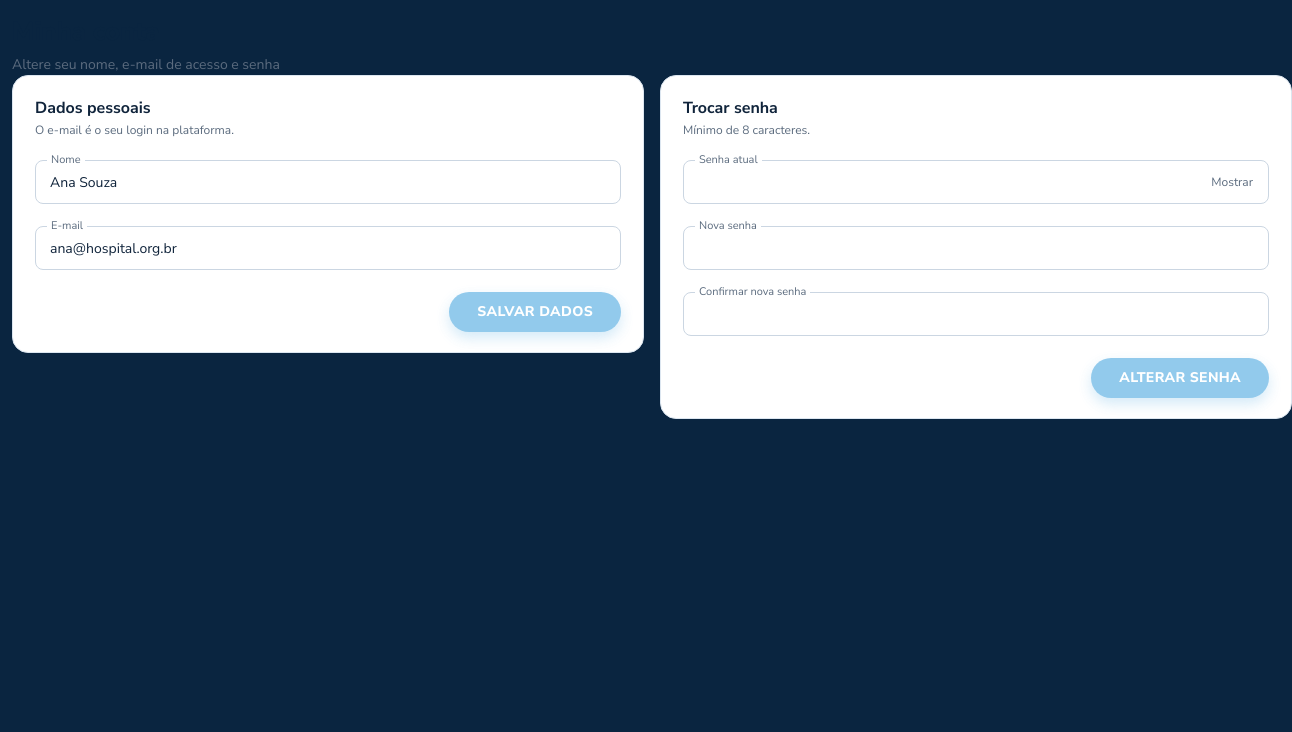
Test case: Minha conta: dados pessoais › trocar o e-mail exige a senha atual
This screenshot has width=1292, height=732.
Replace the text in the 2nd field with "Nova@Hospital.org.br" at (328, 248), box left=35, top=226, right=621, bottom=270
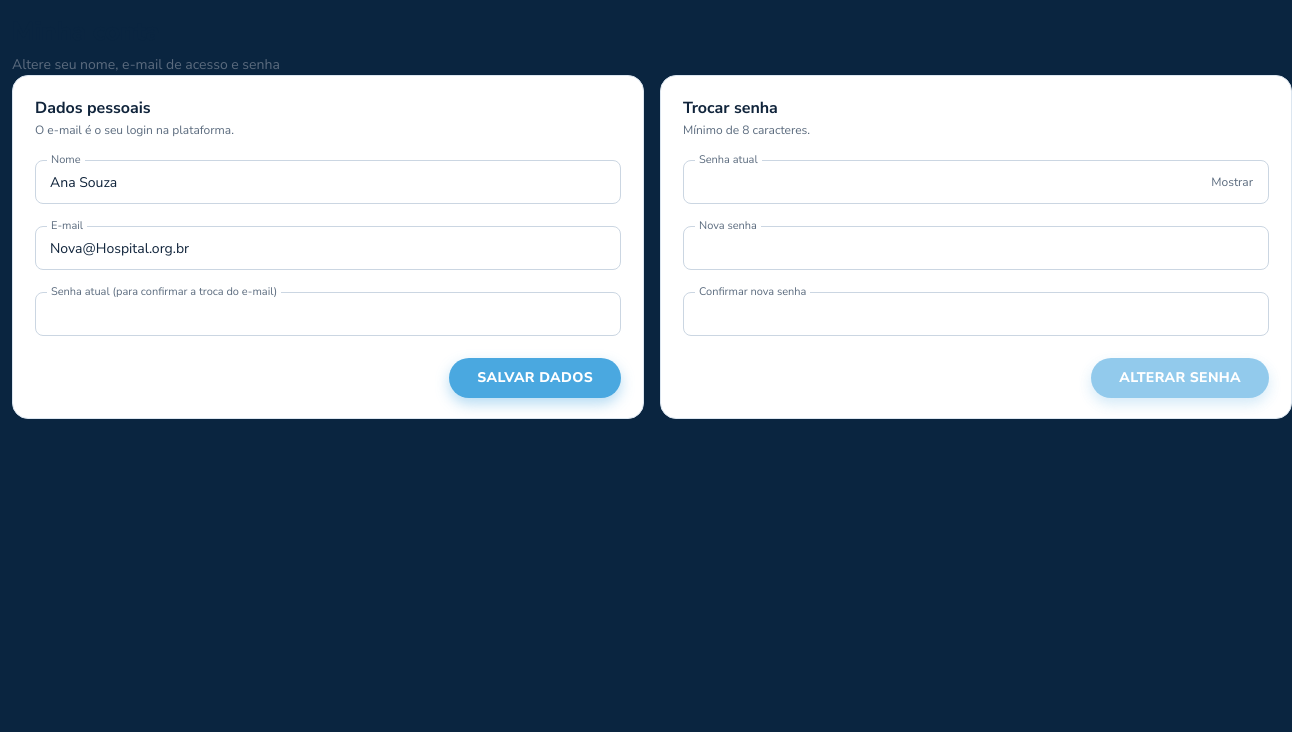
Click the button "SALVAR DADOS" at (535, 378), box left=449, top=358, right=621, bottom=398
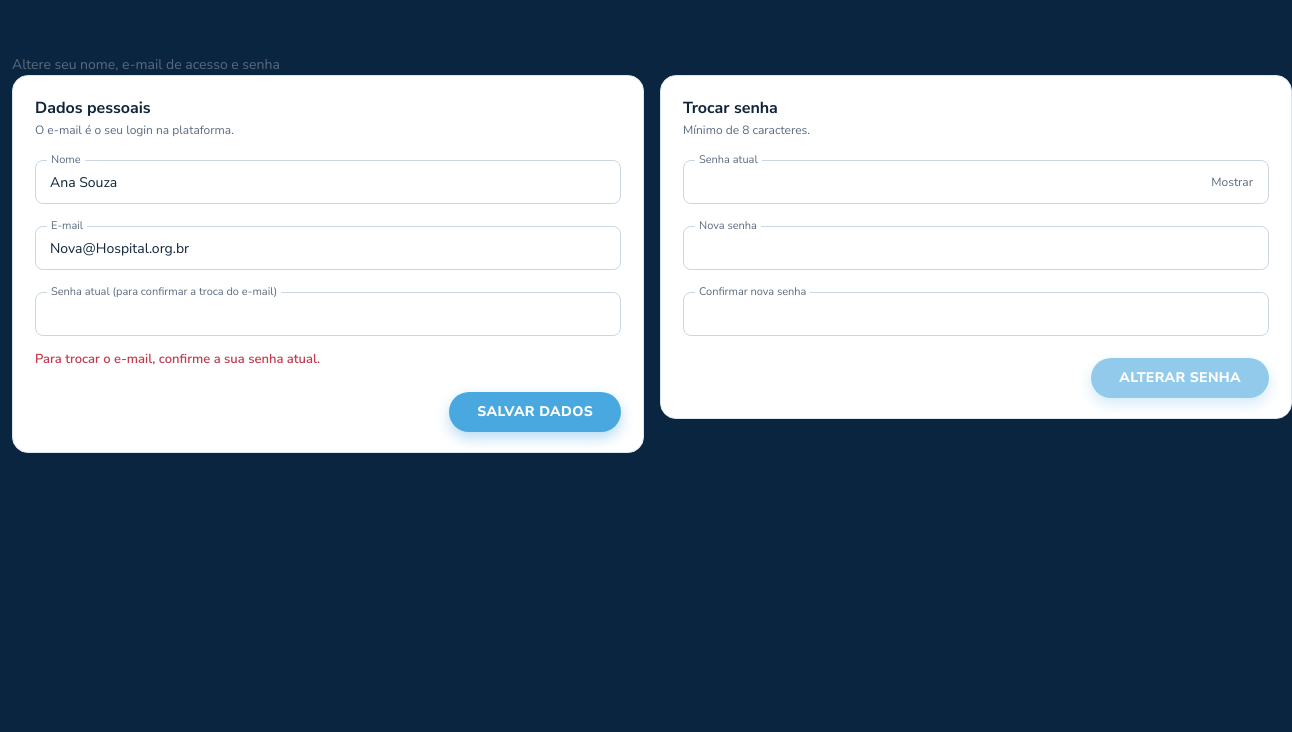
Result: the text "Para trocar o e-mail, confirme a sua senha atual." is shown at left=35, top=350, right=320, bottom=368
Type "segredo123" into the password field below "O e-mail é o seu login na plataforma." at (328, 314), box left=35, top=292, right=621, bottom=336
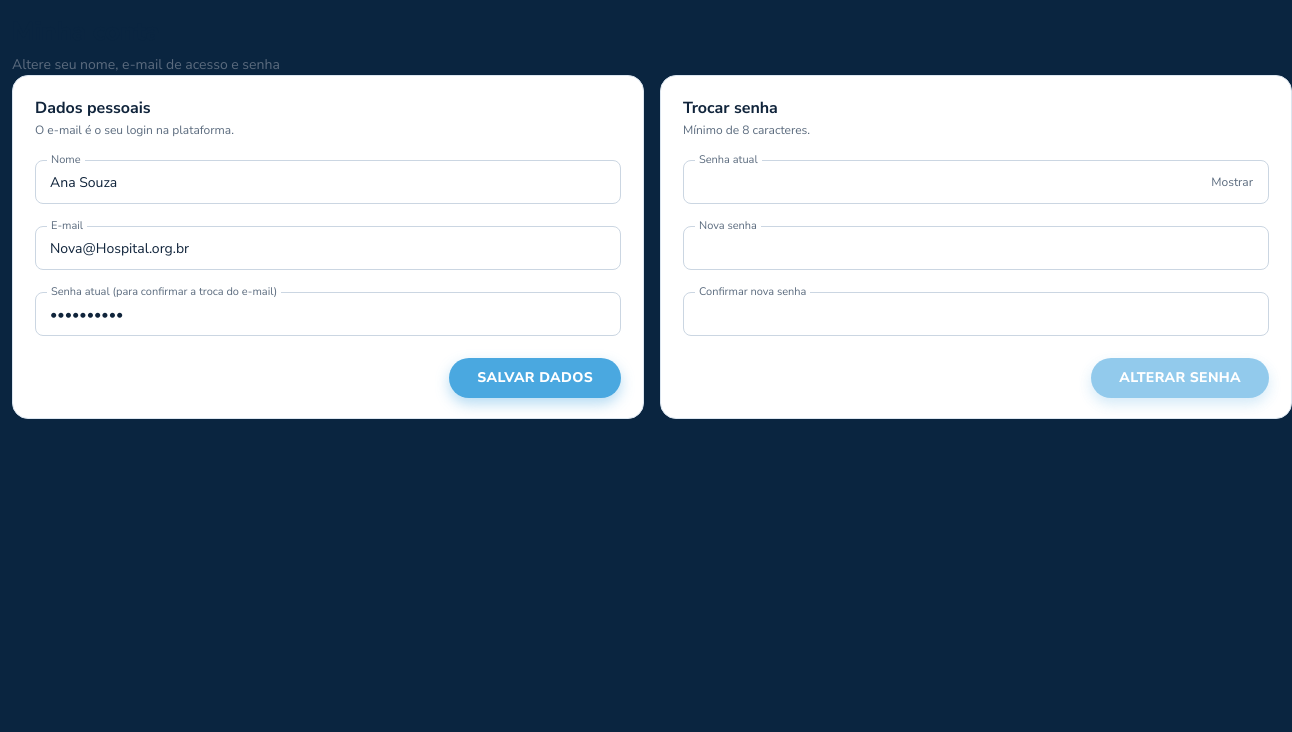
Press Enter in the password field below "O e-mail é o seu login na plataforma.", box left=35, top=292, right=621, bottom=336
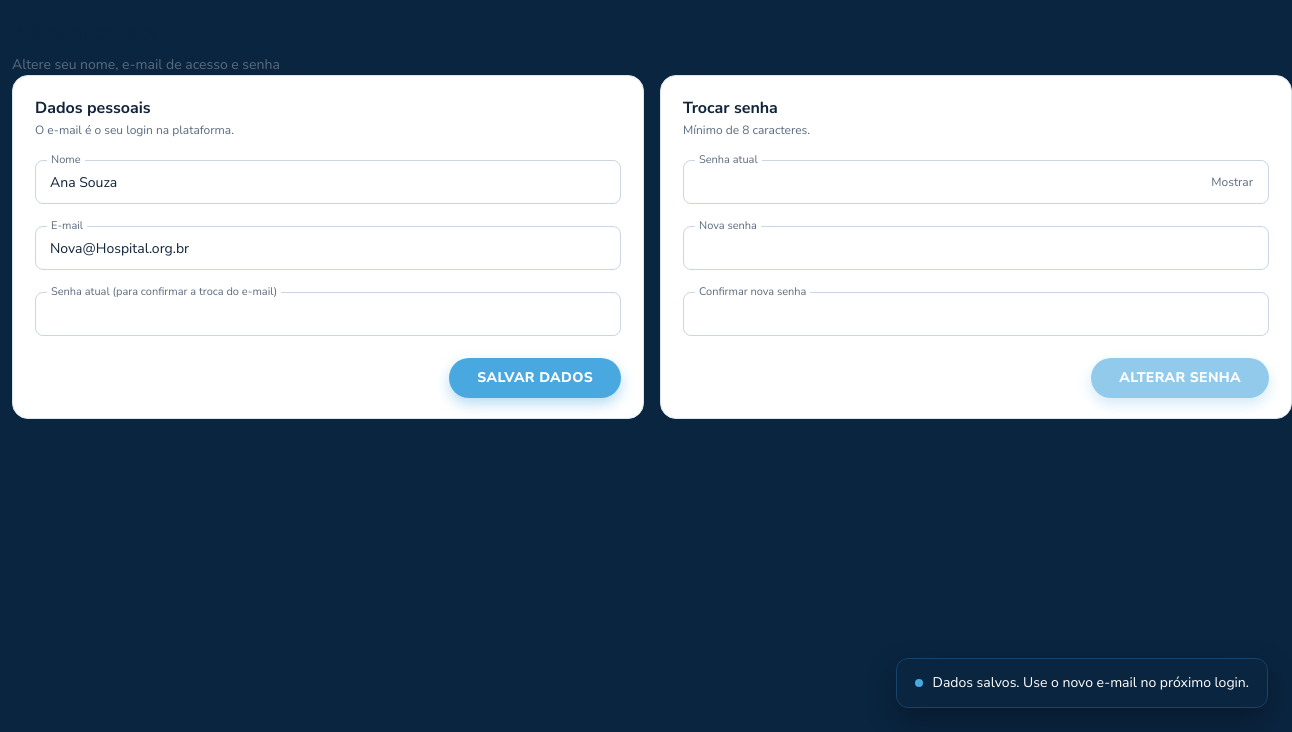
Result: the message shows "Use o novo e-mail no próximo login." at left=932, top=673, right=1249, bottom=692
